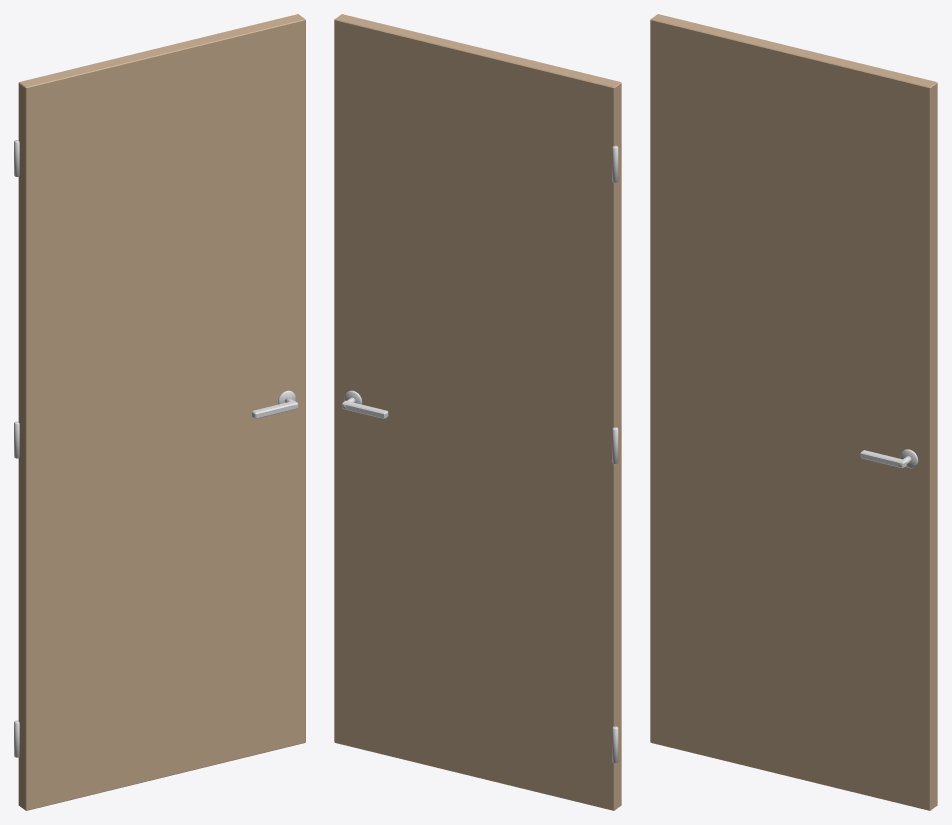
The model's file is Door_Leaf.fbx.
3 renders of one model, left to right at view 1: azimuth 30°, elevation 25°; view 2: azimuth 150°, elevation 25°; view 3: azimuth 330°, elevation 25°, orthographic.
Visible parts, largest first — view 1: Door_Leaf, Door_Leaf_Handle_Back; view 2: Door_Leaf, Door_Leaf_Handle_Swing; view 3: Door_Leaf, Door_Leaf_Handle_Back.
Part boxes in pixels (x1,y1,x2,y2): Door_Leaf: (14, 14, 305, 810); Door_Leaf_Handle_Back: (252, 390, 298, 418); Door_Leaf: (334, 14, 621, 810); Door_Leaf_Handle_Swing: (342, 390, 388, 418); Door_Leaf: (650, 14, 937, 810); Door_Leaf_Handle_Back: (860, 449, 918, 468).
Bounding box in the file's own units: 0.845 × 2.06 × 0.14.
